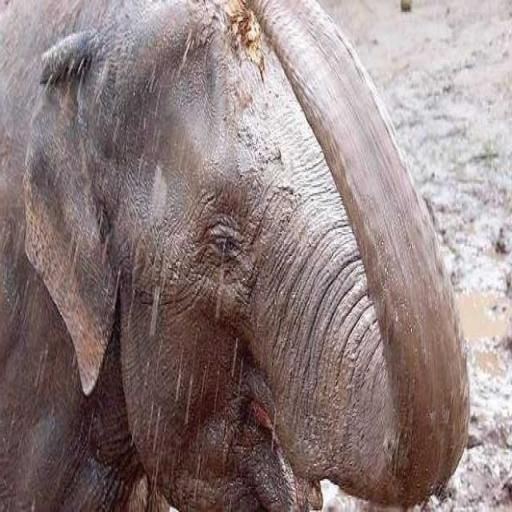Elephant: (0, 0, 470, 509)
